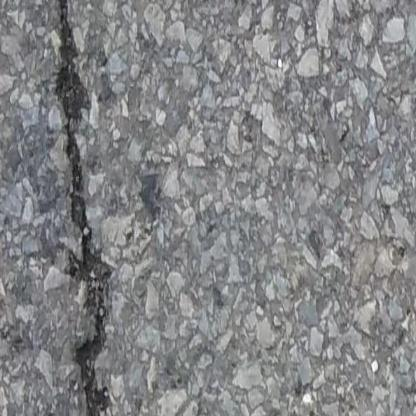Cracks: (52, 0, 113, 416)
